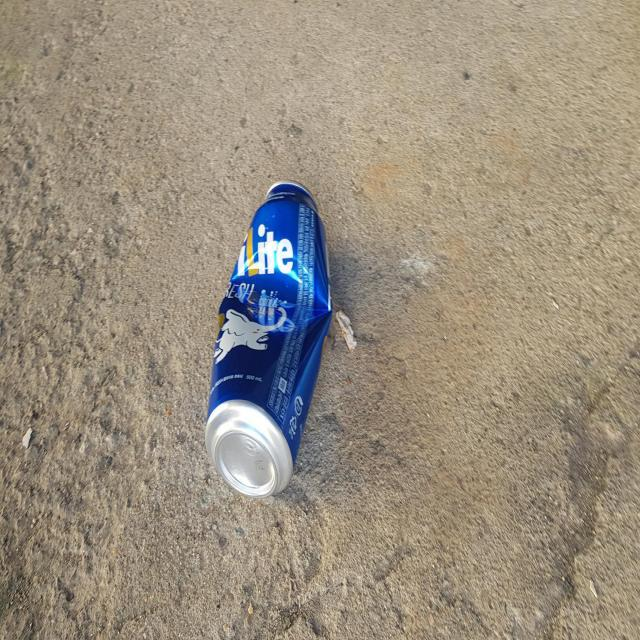can: (205, 181, 333, 498)
